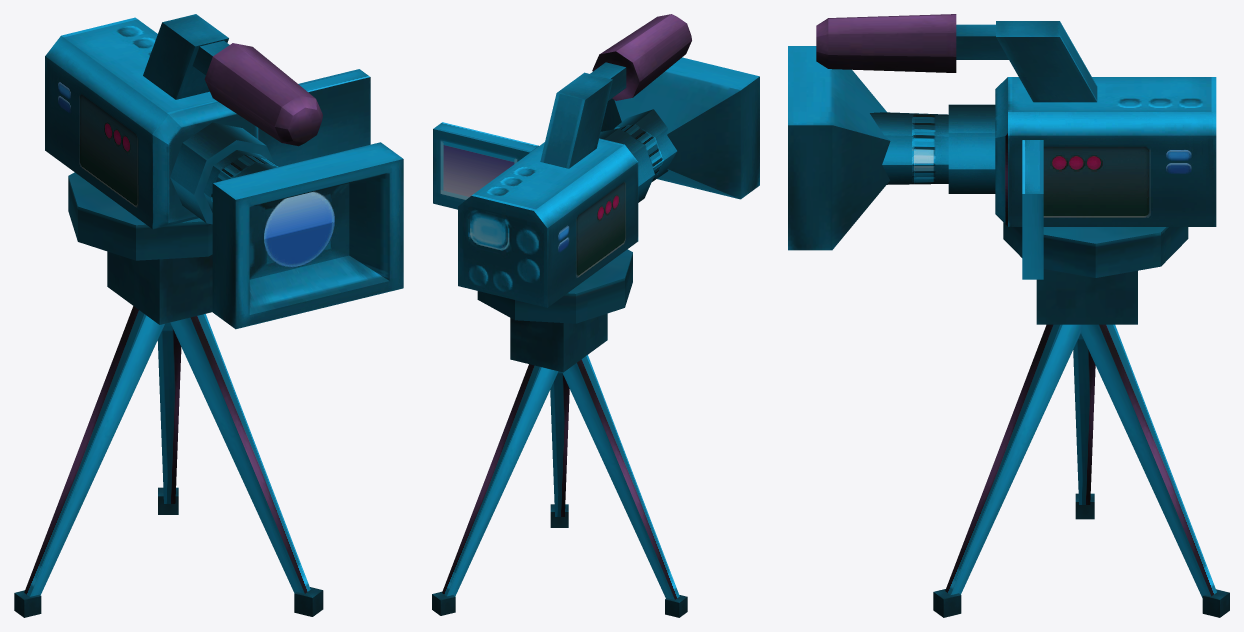
Rendered from camatar.obj.
The picture shows the model from 3 angles, left to right: view 1: azimuth 30°, elevation 25°; view 2: azimuth 150°, elevation 25°; view 3: azimuth 270°, elevation 25°; orthographic projection. The views are drawn at different scales.
Parts seen in each view (by area): view 1: Body_Untitled.001; view 2: Body_Untitled.001; view 3: Body_Untitled.001.
Boxes of the visible parts, x1,y1,x2,y2 form: Body_Untitled.001: [14, 14, 403, 617]; Body_Untitled.001: [432, 14, 759, 617]; Body_Untitled.001: [788, 14, 1229, 617].
Bounding box in the file's own units: 0.4366 × 0.7654 × 0.5418.
Materials: 1 (1 with a texture image).
